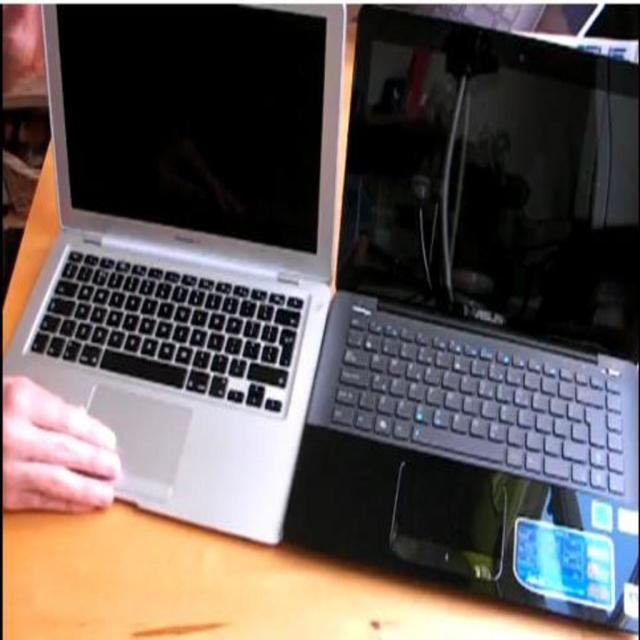laptop: (302, 6, 640, 630), (15, 4, 341, 545)
